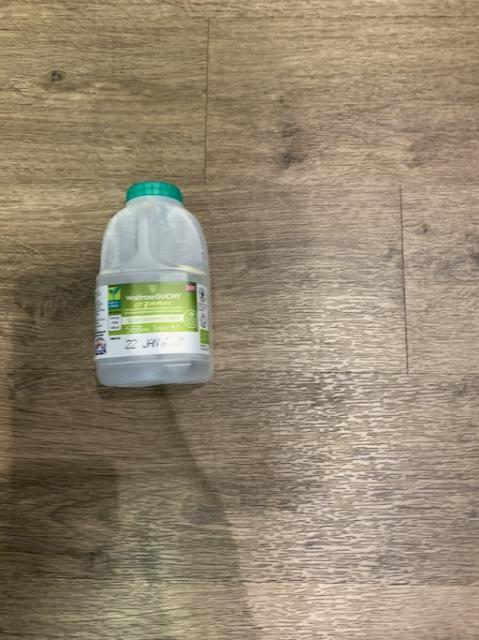plastic: (95, 181, 211, 385)
